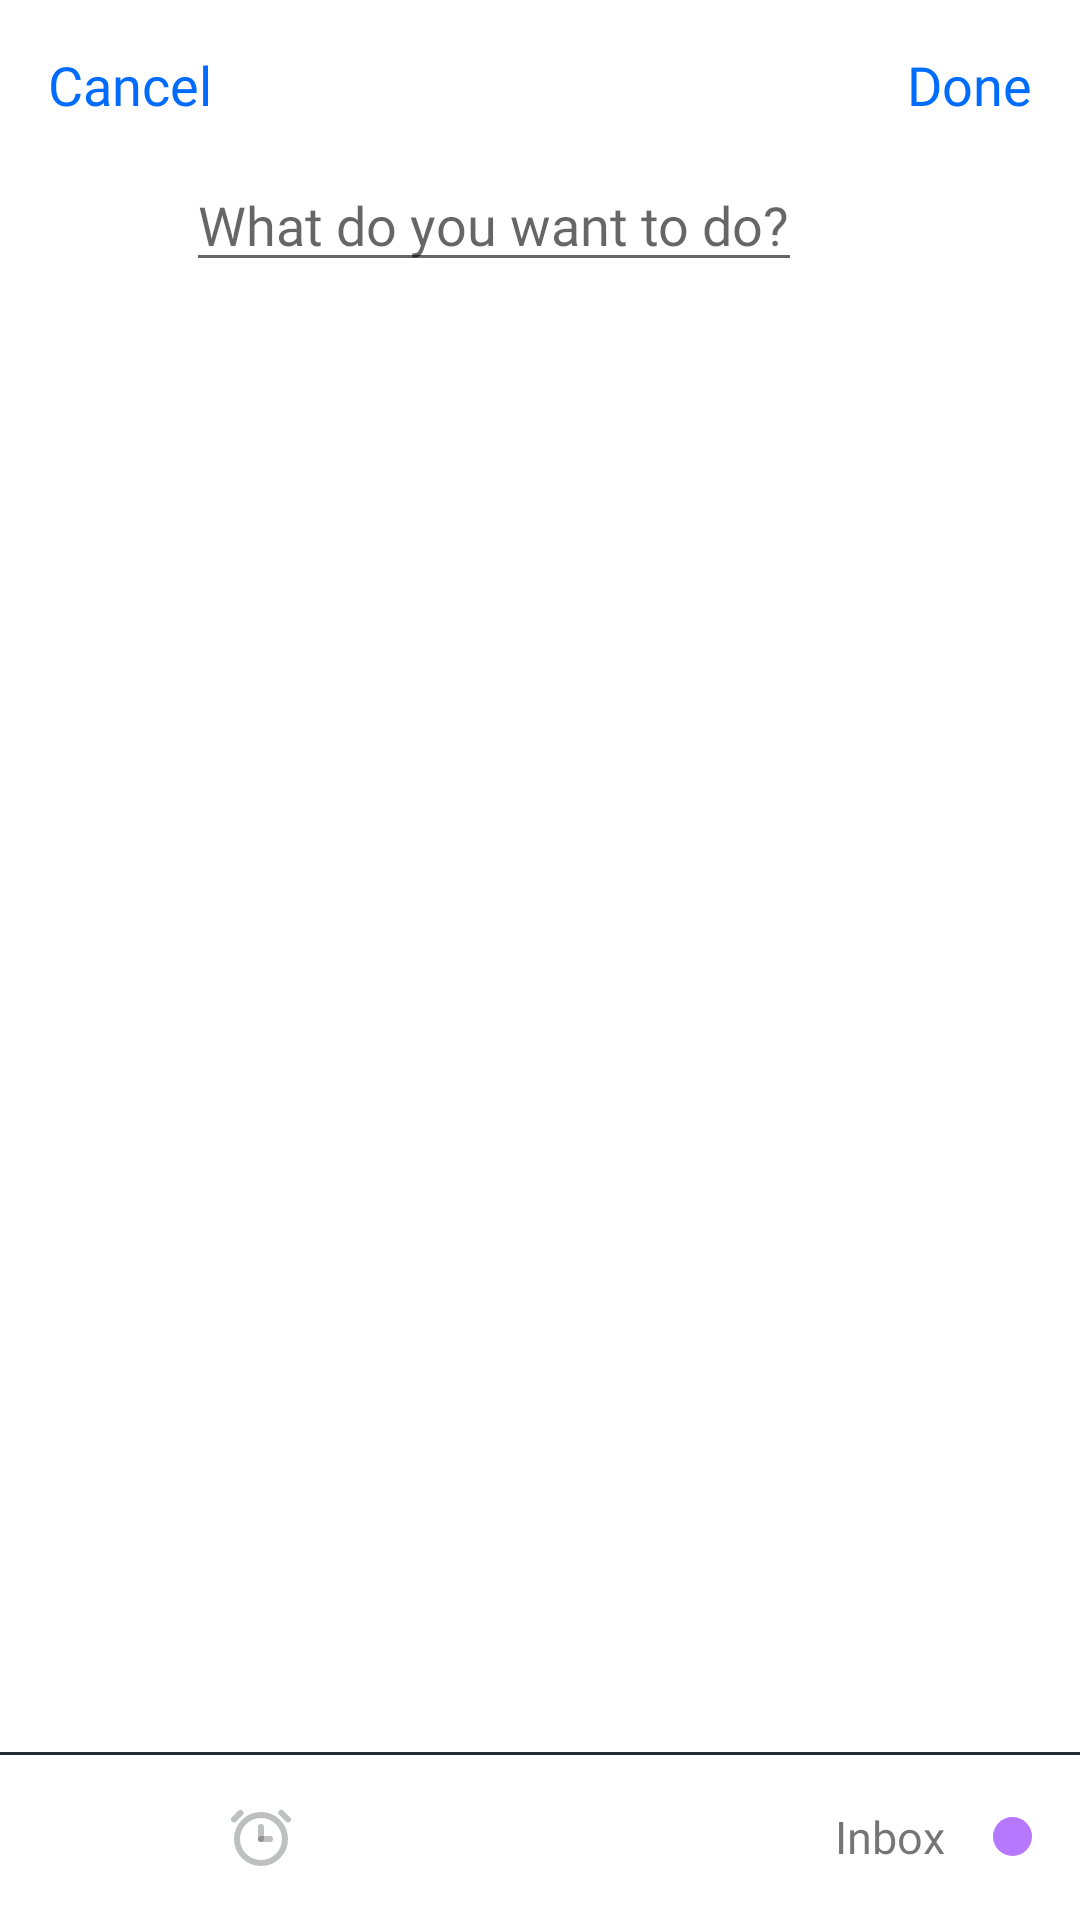

Where to tap for icons on this 1080*1920 app screen, as [x,y]:
alarm: [261,1838]
